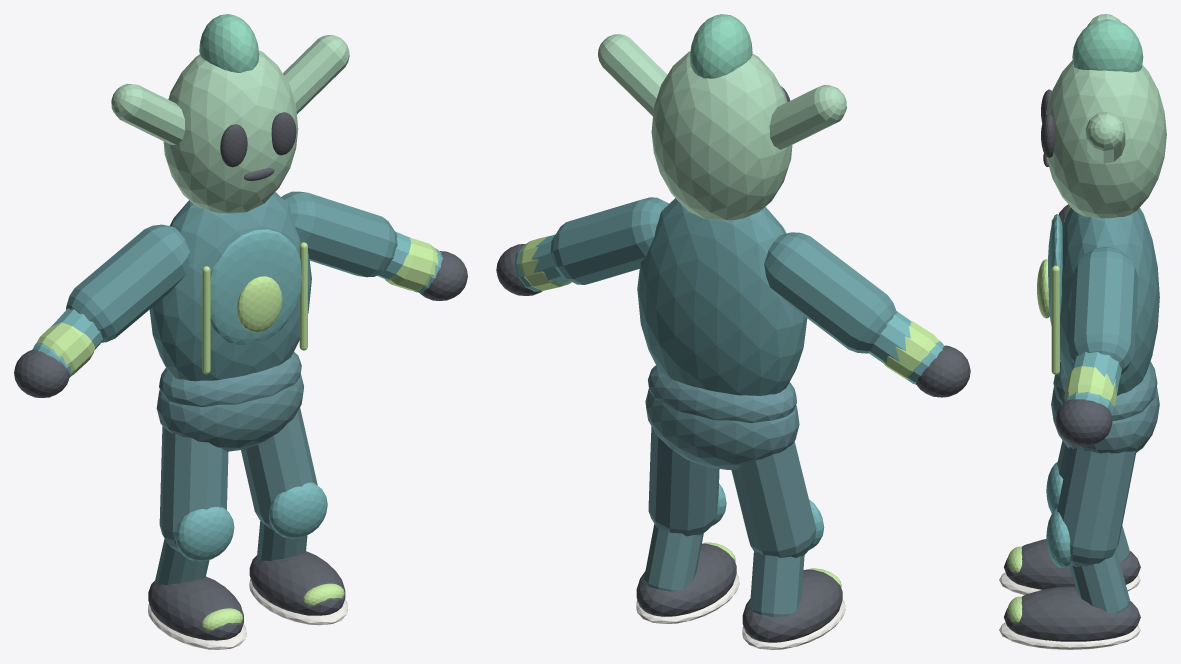
The model's file is 05_alien.glb.
The picture shows the model from 3 angles, left to right: view 1: azimuth 30°, elevation 25°; view 2: azimuth 150°, elevation 25°; view 3: azimuth 270°, elevation 25°; orthographic projection. The views are drawn at different scales.
Parts seen in each view (by area): view 1: Alien head, Torso, Left upper arm, Chest panel, Right upper arm, Shorts or hip section, Left thigh, Right thigh, Right shoe, Left shoe, Waist, Left pointed ear (+19 smaller); view 2: Torso, Alien head, Left upper arm, Left thigh, Right upper arm, Shorts or hip section, Right thigh, Waist, Left shoe, Right shoe, Left pointed ear, Crest (+11 smaller); view 3: Alien head, Torso, Right upper arm, Right thigh, Right shoe, Crest, Left shoe, Right shin, Shorts or hip section, Right glove, Right pointed ear, Waist (+14 smaller).
Part boxes in pixels (<box>): Alien head: <box>163,50,298,213</box>; Torso: <box>149,192,311,381</box>; Left upper arm: <box>66,224,189,342</box>; Chest panel: <box>210,229,301,345</box>; Right upper arm: <box>281,191,397,277</box>; Shorts or hip section: <box>156,373,303,451</box>; Left thigh: <box>159,426,228,552</box>; Right thigh: <box>241,407,317,529</box>; Right shoe: <box>249,551,345,615</box>; Left shoe: <box>148,576,243,640</box>; Waist: <box>159,352,301,406</box>; Left pointed ear: <box>111,84,185,144</box>; Torso: <box>637,198,807,395</box>; Alien head: <box>651,51,792,220</box>; Left upper arm: <box>764,232,896,353</box>; Left thigh: <box>731,441,816,558</box>; Right upper arm: <box>550,197,668,284</box>; Shorts or hip section: <box>645,388,799,469</box>; Right thigh: <box>648,426,719,536</box>; Waist: <box>648,365,796,422</box>; Left shoe: <box>742,569,842,642</box>; Right shoe: <box>636,543,736,616</box>; Left pointed ear: <box>769,84,846,149</box>; Crest: <box>690,14,752,78</box>; Alien head: <box>1046,60,1166,218</box>; Torso: <box>1060,207,1159,395</box>; Right upper arm: <box>1069,247,1138,374</box>; Right thigh: <box>1057,447,1135,566</box>; Right shoe: <box>1004,586,1140,641</box>; Crest: <box>1072,19,1143,72</box>; Left shoe: <box>1004,539,1140,589</box>; Right shin: <box>1069,550,1129,612</box>; Shorts or hip section: <box>1051,387,1159,453</box>; Right glove: <box>1056,399,1112,446</box>; Right pointed ear: <box>1085,112,1125,163</box>; Waist: <box>1053,361,1157,420</box>.
Bounding box in the file's own units: 2.2 × 2.78 × 0.71.
